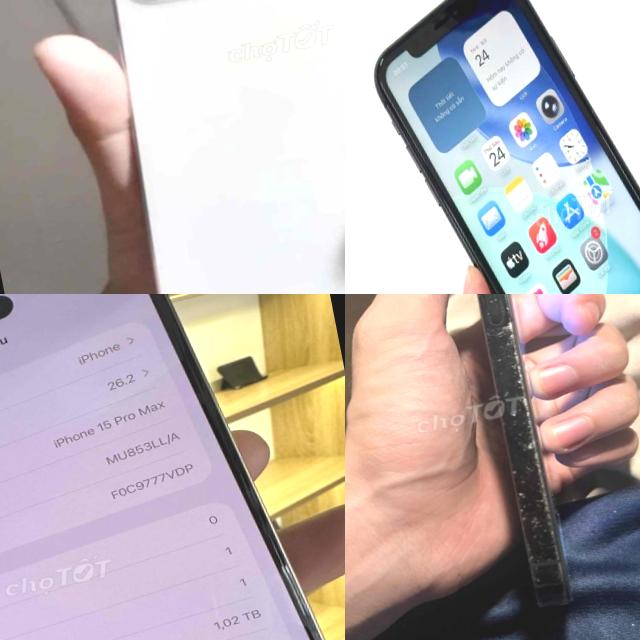gen_11: (351, 0, 640, 294)
gen_12_13: (365, 294, 640, 640), (73, 0, 345, 294)
gen_15: (0, 294, 345, 640)
scratch: (433, 294, 607, 608), (267, 550, 345, 640)
